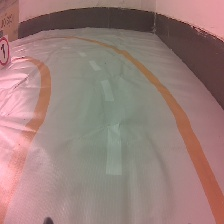limit: (1, 34, 12, 69)
